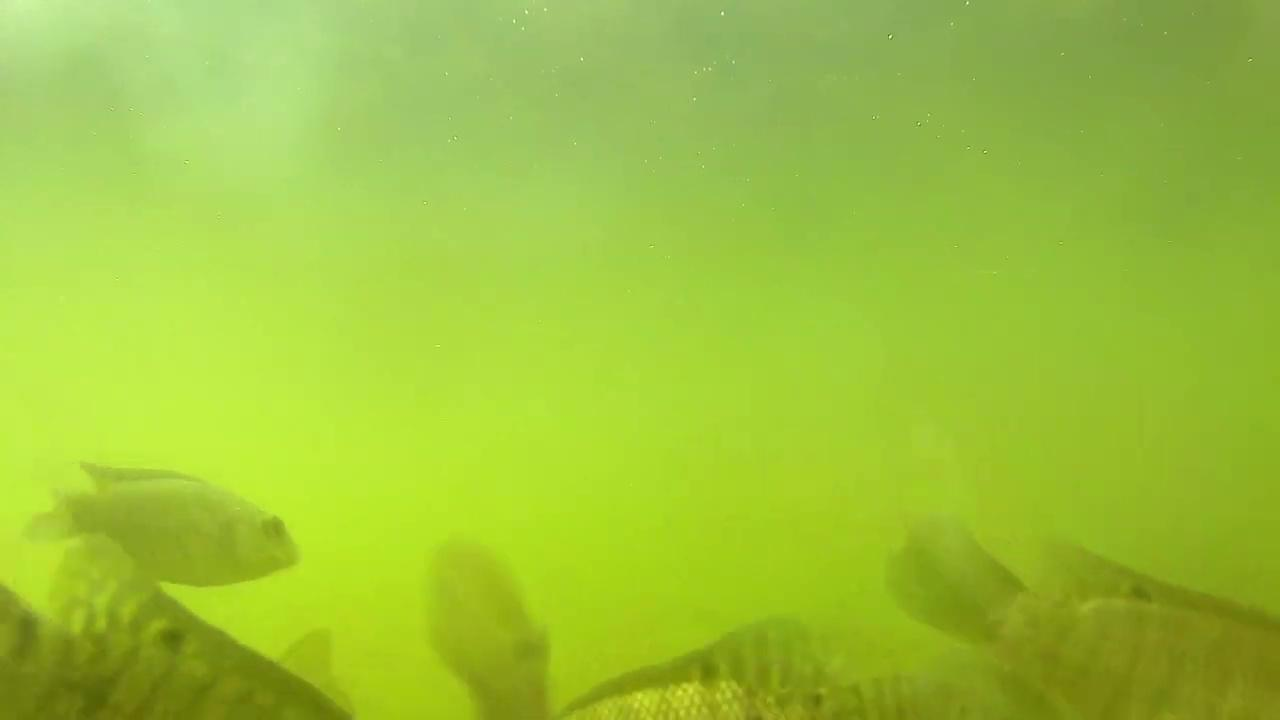Tilapia: (883, 504, 1280, 720), (5, 572, 364, 720), (39, 460, 306, 586)
